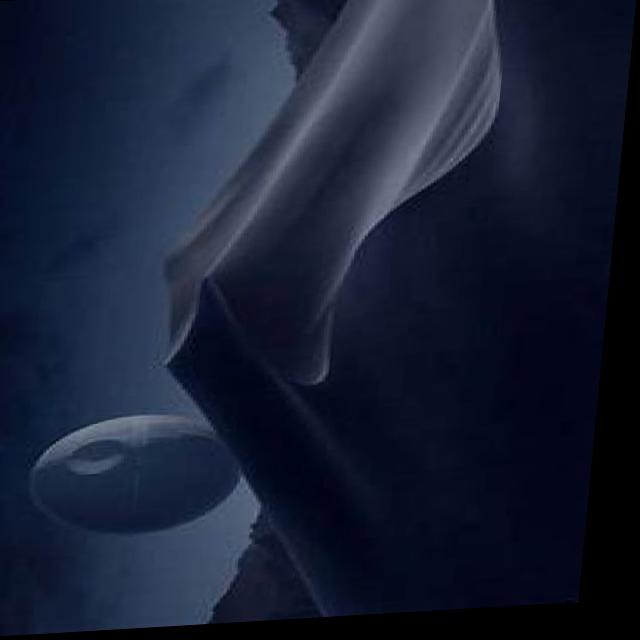deathStar: (39, 410, 255, 539)
